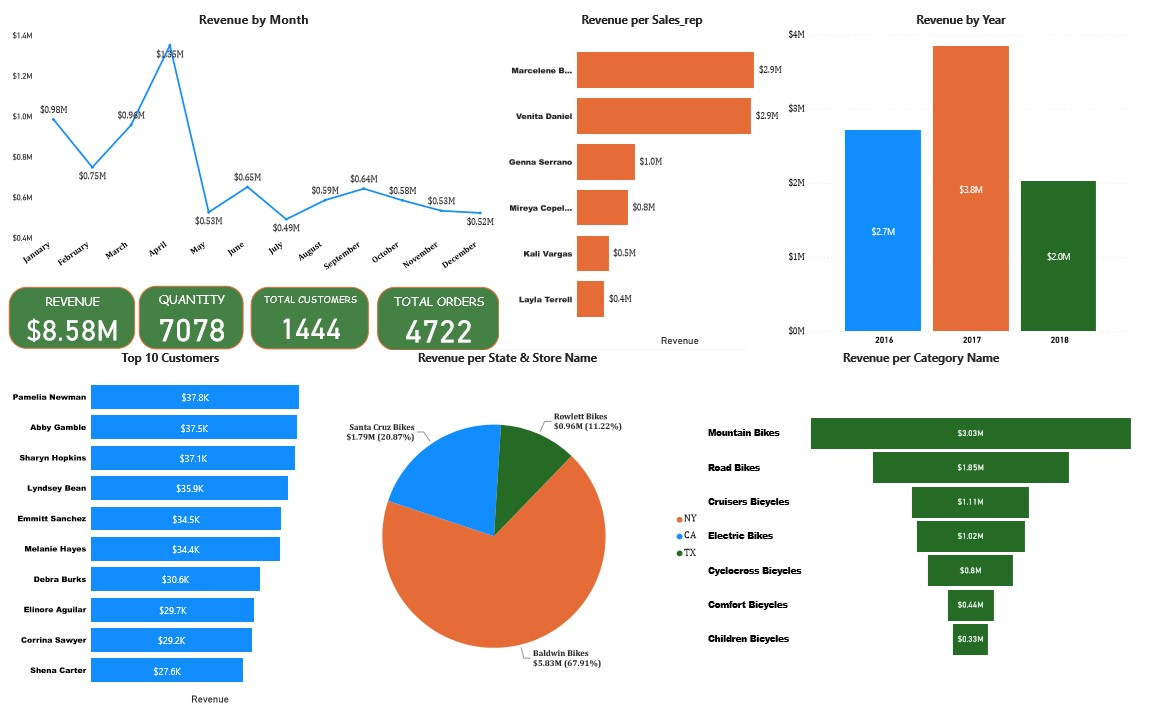

The page's visual inventory and layout, read from the dashboard file:
{"tool":"powerbi","page":{"name":"Page 1","canvas":[1960,1200],"ordinal":0},"visuals":[{"type":"lineChart","title":"Revenue by Month","fields":{"Category":["bikestore_dataset.order_date.Variation.Date Hierarchy.Month"],"Y":["Sum(bikestore_dataset.revenue)"]},"box":[0,0,844.4,466.7],"z":0},{"type":"card","title":"REVENUE","fields":{"Values":["Sum(bikestore_dataset.revenue)"]},"box":[0,476,216.7,105.6],"z":1},{"type":"card","title":"QUANTITY","fields":{"Values":["Sum(bikestore_dataset.quantity)"]},"box":[224.1,474.2,179.7,109.3],"z":2},{"type":"card","title":"TOTAL CUSTOMERS","fields":{"Values":["Count(bikestore_dataset.customer_name)"]},"box":[416.7,476,203.7,107.4],"z":3},{"type":"card","title":"TOTAL ORDERS","fields":{"Values":["CountNonNull(bikestore_dataset.order_id)"]},"box":[635.3,476,209.3,109.3],"z":4},{"type":"clusteredBarChart","title":"Revenue per Sales_rep","fields":{"Category":["Bikestores dataset.sales_rep"],"Y":["Sum(Bikestores dataset.revenue)"]},"box":[844.6,0,426,600.1],"z":5},{"type":"clusteredBarChart","title":"Revenue per Sales_rep","fields":{"Category":["bikestore_dataset.sales_rep"],"Y":["Sum(bikestore_dataset.revenue)"]},"box":[844.4,0,493.3,582.2],"z":6},{"type":"columnChart","title":"Revenue by Year","fields":{"Category":["bikestore_dataset.order_date.Variation.Date Hierarchy.Year"],"Y":["Sum(bikestore_dataset.revenue)"]},"box":[1337.8,0,606.7,582.2],"z":7},{"type":"clusteredBarChart","title":"Top 10 Customers","fields":{"Category":["bikestore_dataset.customer_name"],"Y":["Sum(bikestore_dataset.revenue)"]},"box":[0,584.4,555.6,615.6],"z":8},{"type":"pieChart","title":"Revenue per State & Store Name","fields":{"Y":["Sum(bikestore_dataset.revenue)"],"Series":["bikestore_dataset.store_name"],"Category":["bikestore_dataset.state"]},"box":[517.8,584.4,682.2,615.6],"z":9},{"type":"funnel","title":"Revenue per Category Name","fields":{"Category":["bikestore_dataset.category_name"],"Y":["Sum(bikestore_dataset.revenue)"]},"box":[1200,584.4,744.4,615.6],"z":10}]}

Visuals, with their boxes in screenshot pixels (x1, y1, x2, y2), scaled from the page's 1960x1200 canvas onto the 1154x717 screenshot:
"Revenue by Month" lineChart: 0/0/497/279
"REVENUE" card: 0/284/128/348
"QUANTITY" card: 132/283/238/349
"TOTAL CUSTOMERS" card: 245/284/365/349
"TOTAL ORDERS" card: 374/284/497/350
"Revenue per Sales_rep" clusteredBarChart: 497/0/748/359
"Revenue per Sales_rep" clusteredBarChart: 497/0/788/348
"Revenue by Year" columnChart: 788/0/1145/348
"Top 10 Customers" clusteredBarChart: 0/349/327/716
"Revenue per State & Store Name" pieChart: 305/349/707/716
"Revenue per Category Name" funnel: 707/349/1145/716
